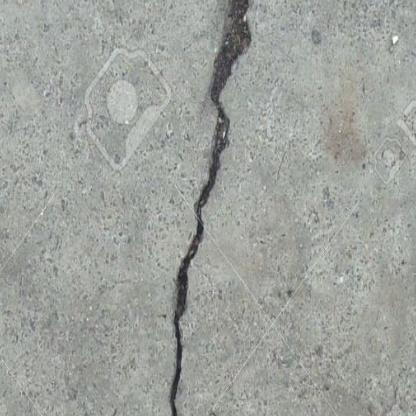Cracks: (166, 0, 258, 416), (205, 411, 236, 416)
